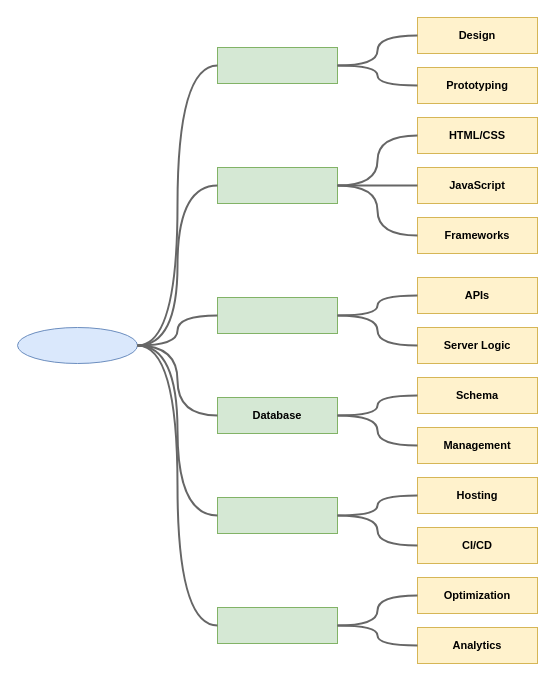
The diagram is 555 pixels wide and 681 high, and some of its shapes have lost their labels. Each missing label, with the centre of its shape:
"Backend" belongs at [277,315].
"Deployment" belongs at [277,515].
"Frontend" belongs at [277,185].
"SEO" belongs at [277,625].
"UI/UX" belongs at [277,65].
"Website Development" belongs at [77,345].
